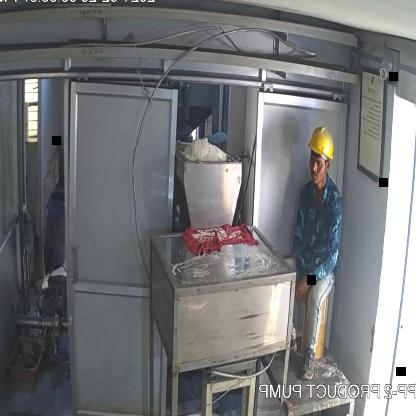helmet: (306, 118, 338, 166)
